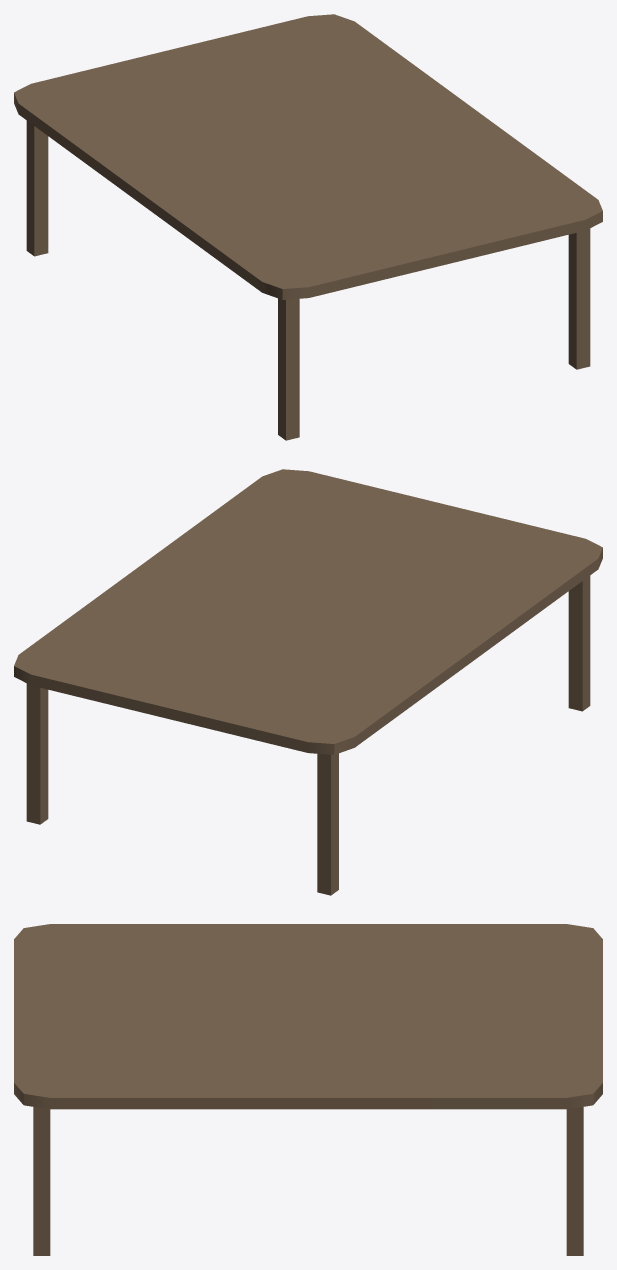
Rendered from Table_Prototype 1.fbx.
3 renders of one model, top to bottom at view 1: azimuth 30°, elevation 25°; view 2: azimuth 150°, elevation 25°; view 3: azimuth 270°, elevation 25°, orthographic. The views are drawn at different scales.
Parts seen in each view (by area): view 1: Table; view 2: Table; view 3: Table.
Part boxes in pixels (left/top/right/bottom): Table: left=14, top=14, right=602, bottom=440; Table: left=14, top=469, right=602, bottom=895; Table: left=14, top=924, right=602, bottom=1255.
Bounding box in the file's own units: 1.49 × 0.6665 × 2.14.
